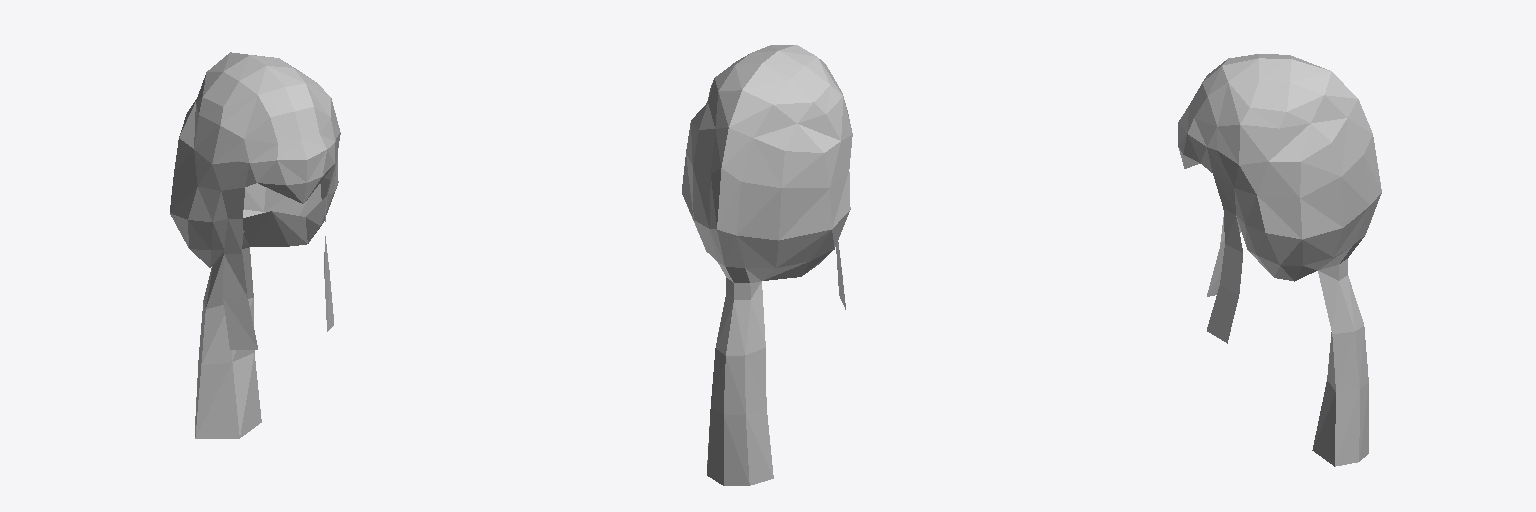
File: f_hair04.obj
The picture shows the model from 3 angles: view 1: azimuth 30°, elevation 25°; view 2: azimuth 150°, elevation 25°; view 3: azimuth 270°, elevation 25°; orthographic projection.
Parts seen in each view (by area): view 1: ________________02_0; view 2: ________________02_0; view 3: ________________02_0.
Boxes of the visible parts, x1=… form: ________________02_0: x1=170, y1=52, x2=340, y2=438; ________________02_0: x1=682, y1=45, x2=852, y2=485; ________________02_0: x1=1178, y1=54, x2=1381, y2=466.
Size of the model in its own units: 25.93 by 65.02 by 30.41.